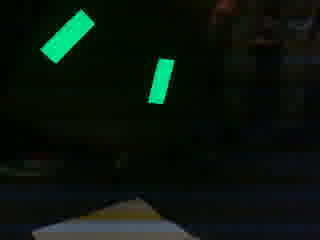target: (39, 8, 181, 106)
